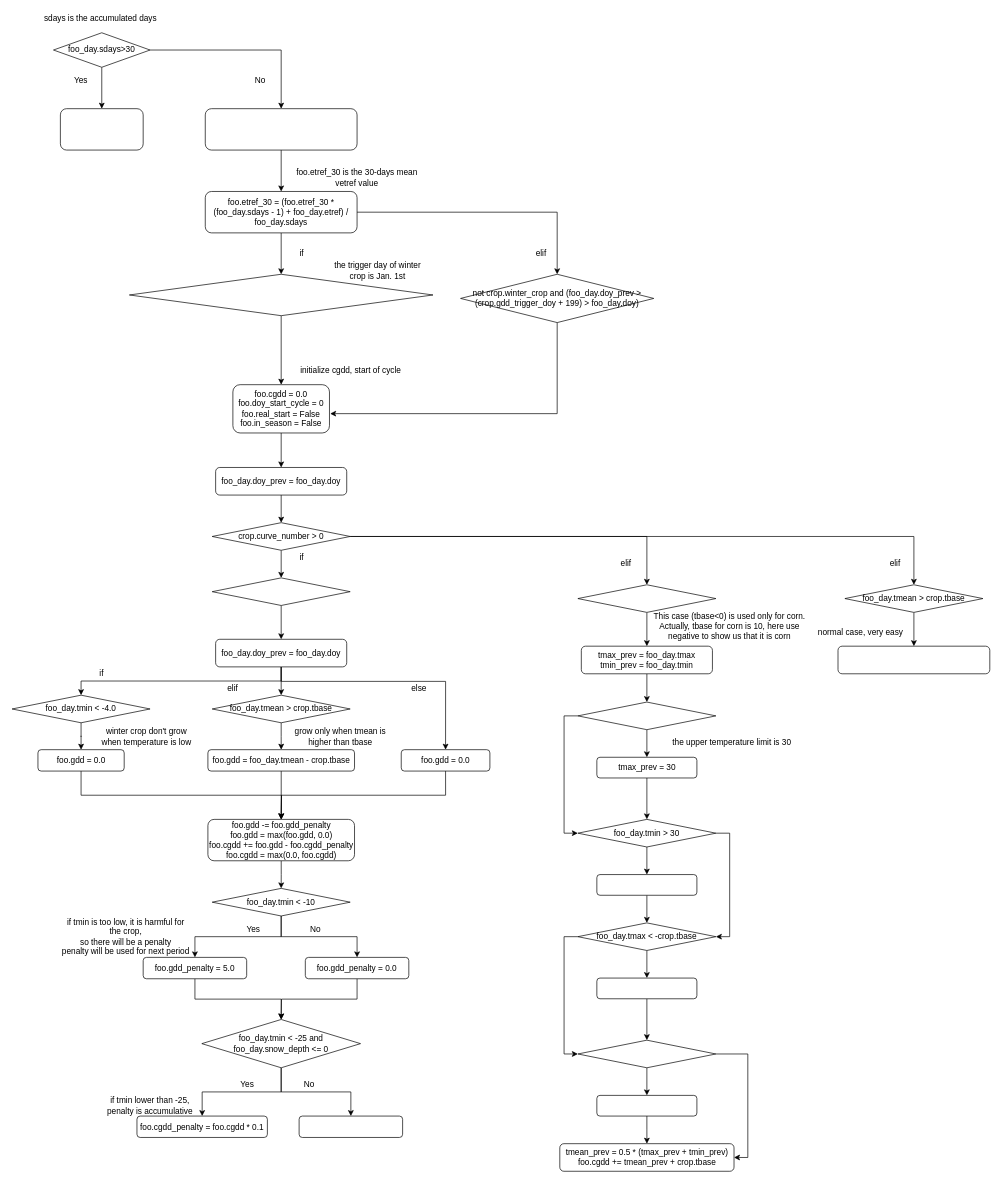
This 1002x1183 diagram has some shape labels left out. Each missing label, with the box of its shape:
crop.tbase < 0: (577, 584, 716, 612)
crop.winter_crop: (211, 577, 350, 605)
crop.winter_crop and foo_day.doy_prev < crop.gdd_trigger_doy <= foo_day.doy: (129, 274, 433, 316)
etref_lost = foo_day.etref_array[0]: (60, 108, 143, 150)
foo.cgdd_penalty = 0.0: (298, 1115, 403, 1137)
foo.gdd = foo_day.tmean - crop.tbase foo.cgdd += foo.gdd: (837, 645, 990, 674)
foo_day.etref_array[foo_day.sdays - 1] = foo_day.etref: (205, 108, 357, 150)
foo_day.tmax > 30: (577, 701, 716, 730)
foo_day.tmin < -crop.tbase: (577, 1039, 716, 1068)
tmax_prev = -crop.tbase: (596, 977, 697, 999)
tmin_prev = -crop.tbase: (596, 1095, 697, 1116)
tmin_prev = 30: (596, 874, 697, 895)
